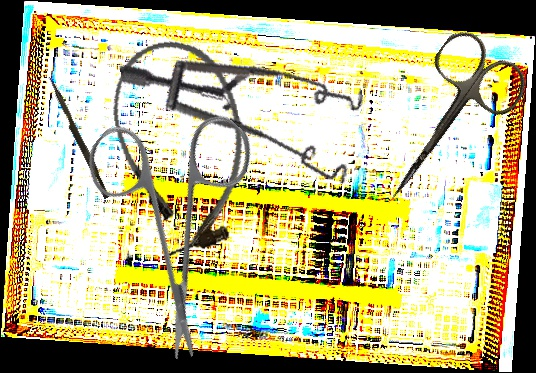Cannula: (102, 29, 261, 264)
Iris Scissors: (23, 62, 326, 366), (353, 23, 535, 225)
Pusher: (43, 75, 113, 200)
Speculum: (118, 16, 381, 226)
